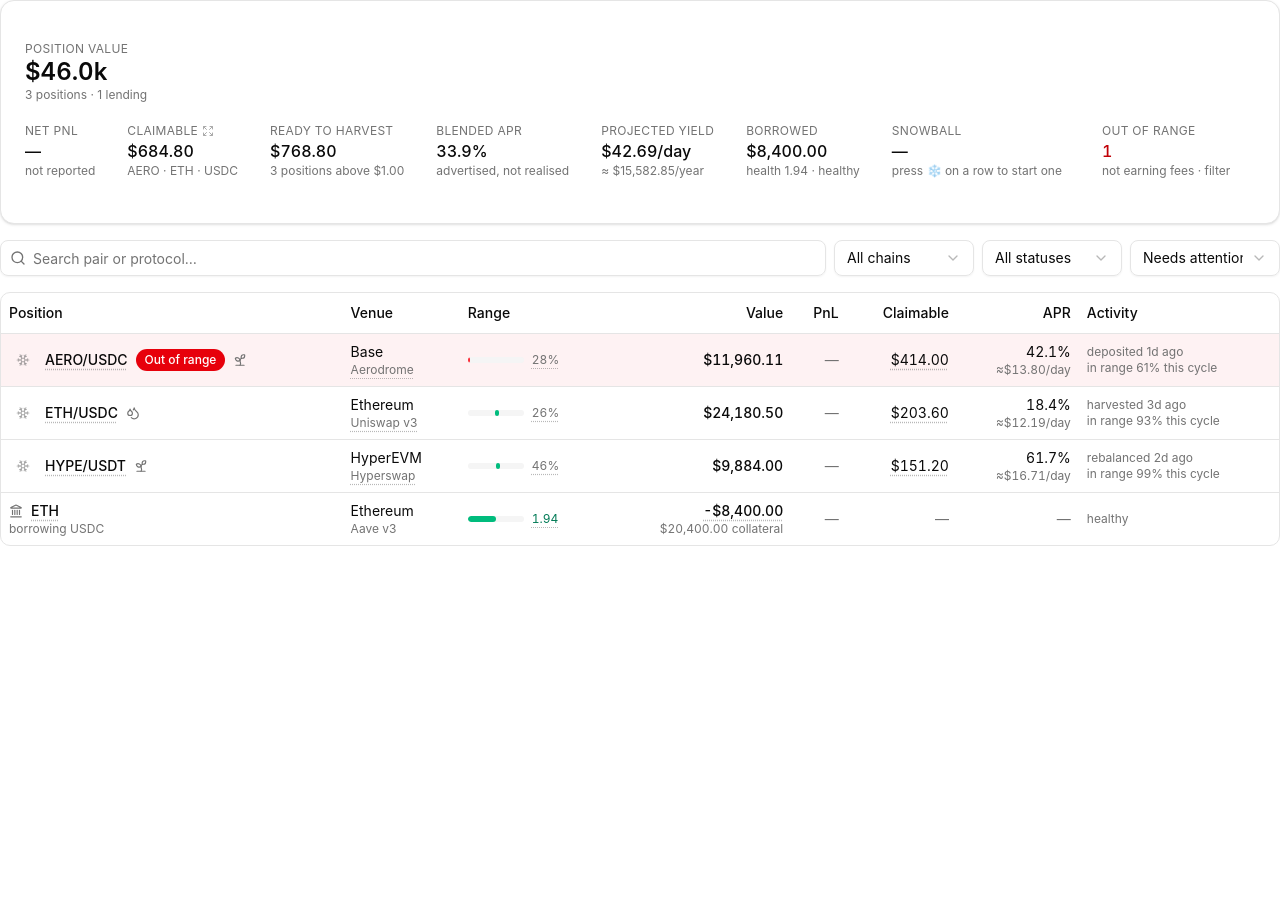
Test case: DeFi › opens the snowball chart in a dialog rather than shrinking it into the bar
Click the button named "Add AERO/USDC to snowball". click: [23, 360]
box: [9,346,37,374]
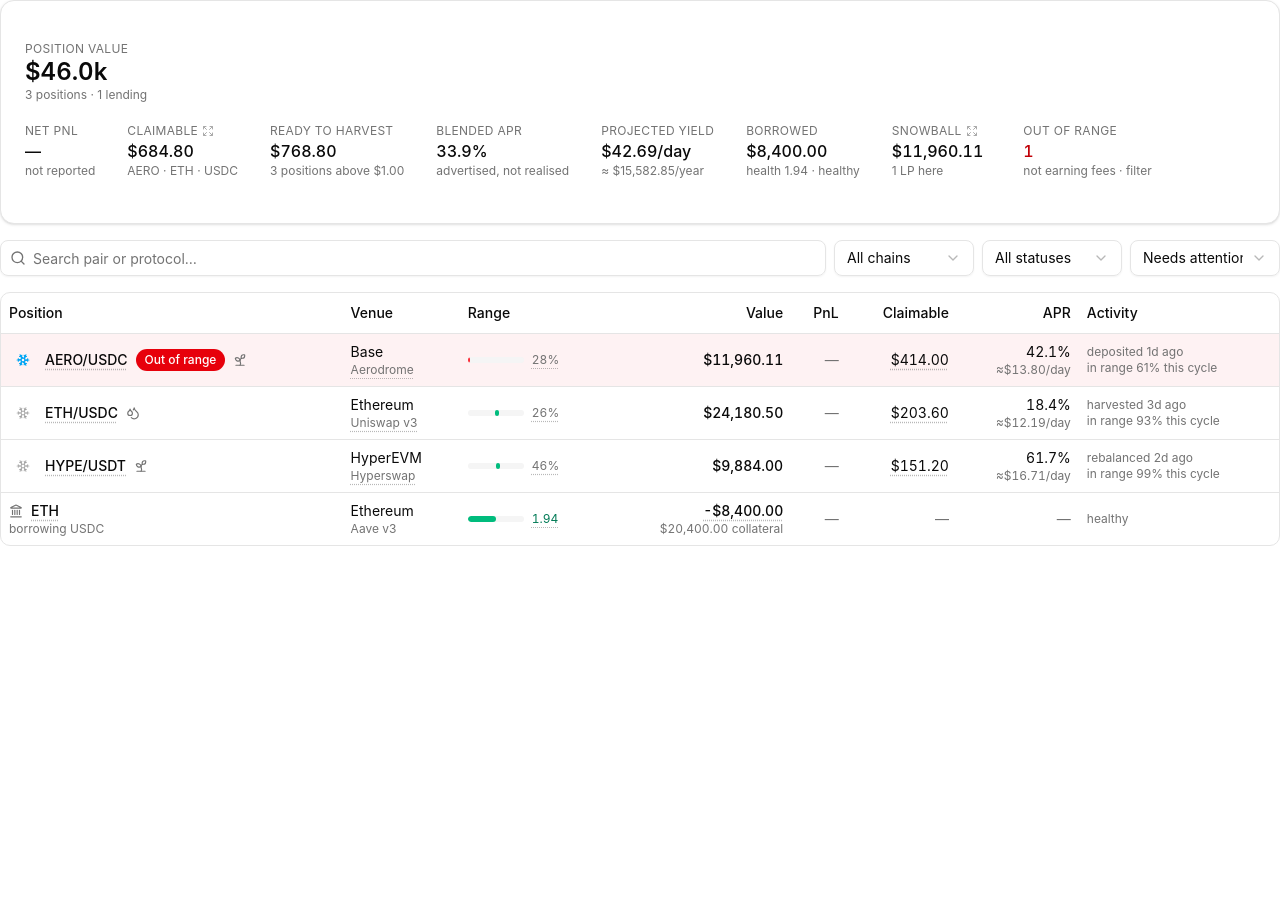
Click the button with aria-label "Snowball — open details". click: [938, 151]
box: [884,119,991,183]
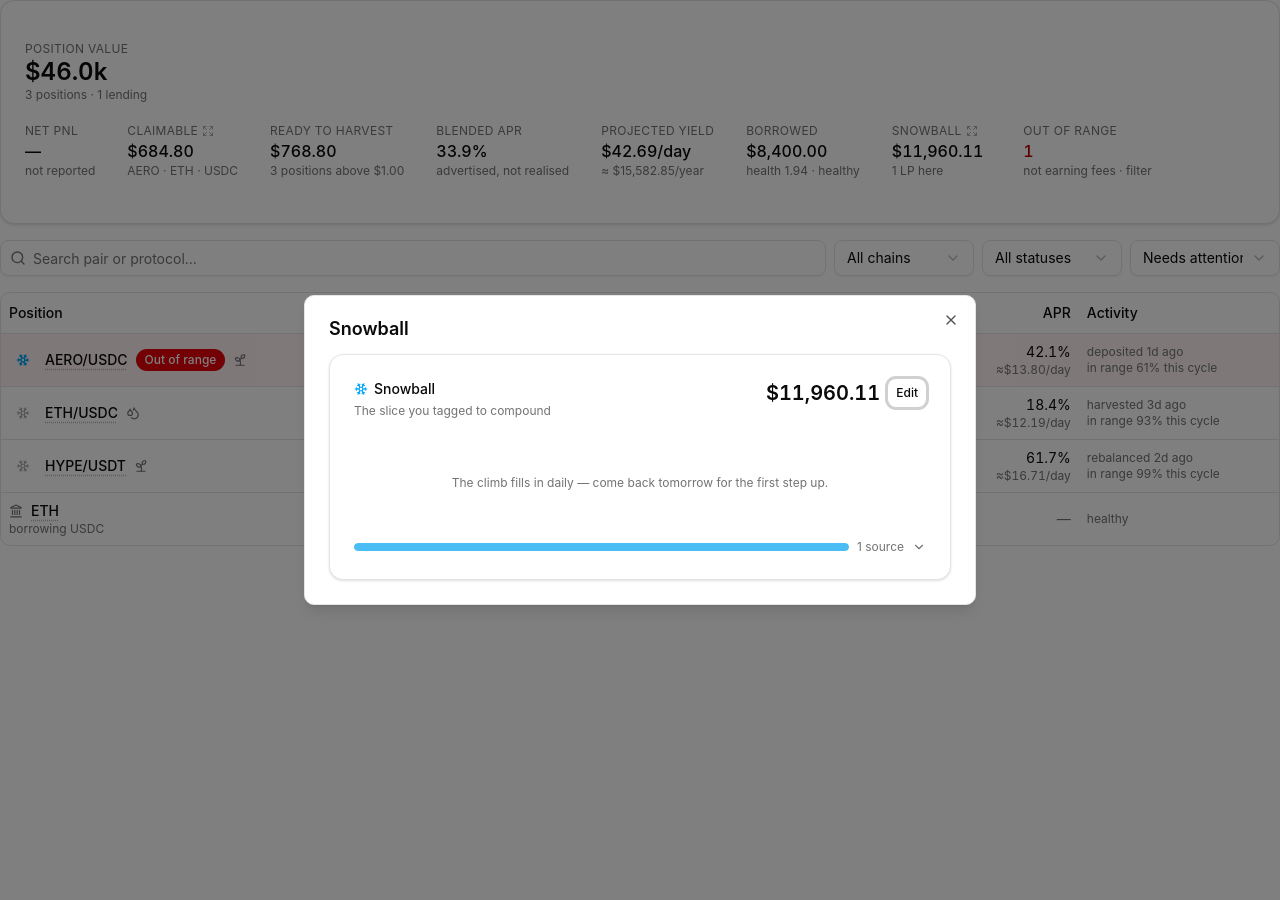
Check: the dialog is shown, box [304,295,976,605]
